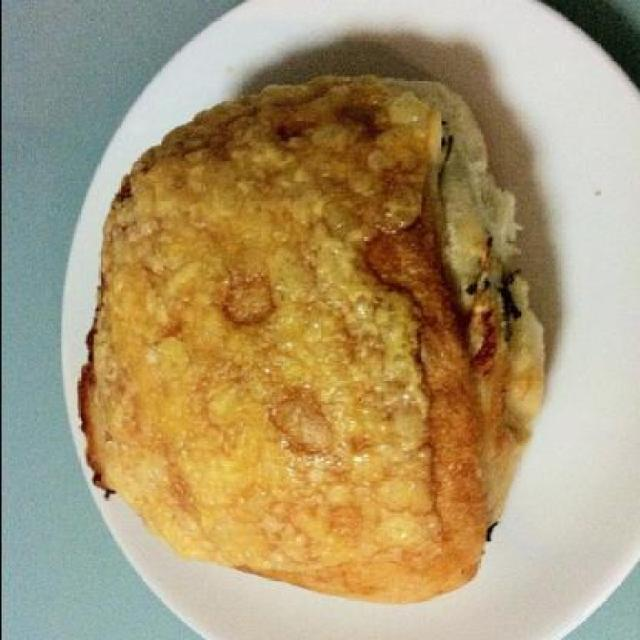Sandwich: (70, 82, 546, 606)
